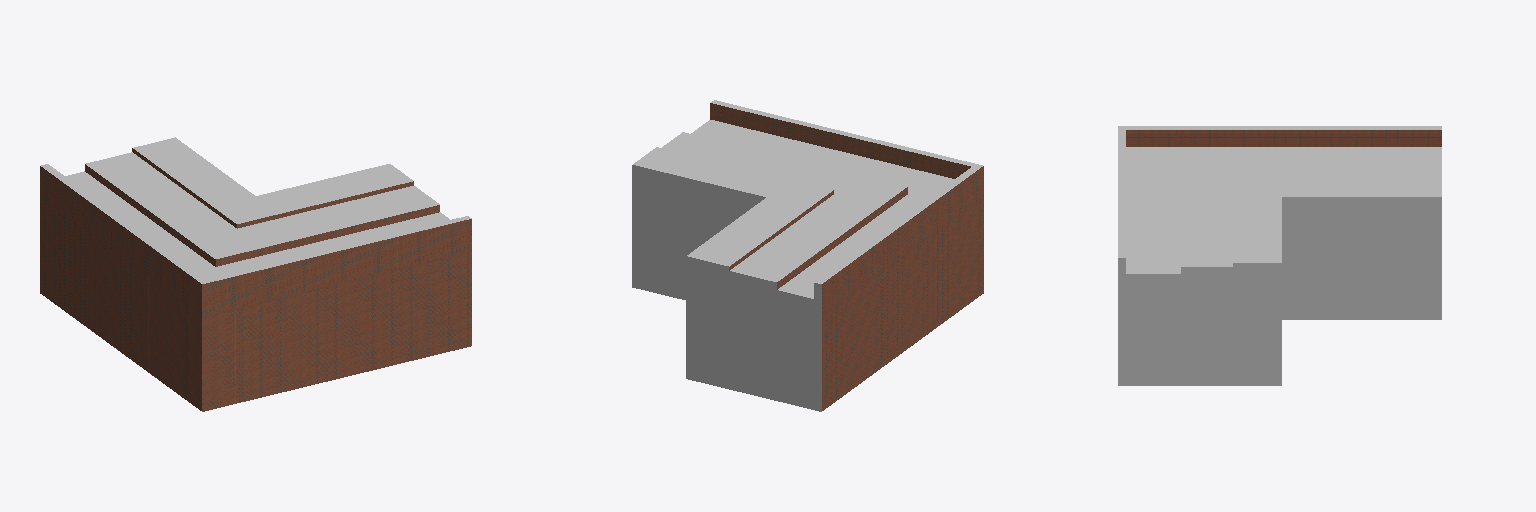
3 renders of one model, left to right at view 1: azimuth 30°, elevation 25°; view 2: azimuth 150°, elevation 25°; view 3: azimuth 270°, elevation 25°, orthographic.
Visible parts, largest first — view 1: Cube.001; view 2: Cube.001; view 3: Cube.001.
Part boxes in pixels (bbox=[...]): Cube.001: bbox=[40, 137, 471, 411]; Cube.001: bbox=[632, 100, 983, 411]; Cube.001: bbox=[1118, 126, 1441, 385].
Bounding box in the file's own units: 3.98 × 1.8 × 4.15.
Materials: 3 (1 with a texture image).